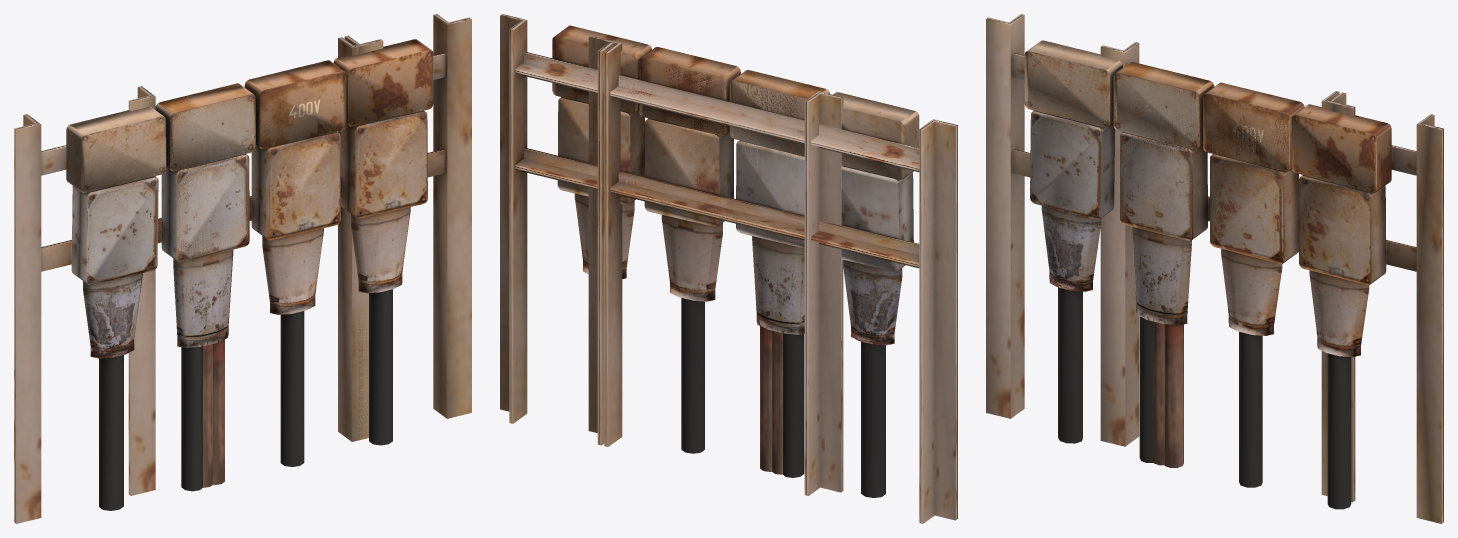
Rendered from fuse_box_0011.fbx.
3 views of the same model, side by side, from view 1: azimuth 30°, elevation 25°; view 2: azimuth 150°, elevation 25°; view 3: azimuth 330°, elevation 25° (orthographic).
Parts seen in each view (by area): view 1: fuse_box_0011a, fuse_box_0011c, fuse_box_0011b; view 2: fuse_box_0011a, fuse_box_0011c, fuse_box_0011b; view 3: fuse_box_0011a, fuse_box_0011c, fuse_box_0011b.
Boxes of the visible parts, box(x1,y1,x2,y2) form: fuse_box_0011a: box(14, 14, 471, 523); fuse_box_0011c: box(128, 35, 383, 495); fuse_box_0011b: box(250, 37, 376, 441); fuse_box_0011a: box(500, 14, 957, 523); fuse_box_0011c: box(588, 35, 843, 495); fuse_box_0011b: box(595, 37, 734, 446); fuse_box_0011a: box(986, 14, 1443, 523); fuse_box_0011c: box(1100, 42, 1355, 502); fuse_box_0011b: box(1205, 83, 1348, 495).
Bounding box in the file's own units: 104 × 86.25 × 10.71.
